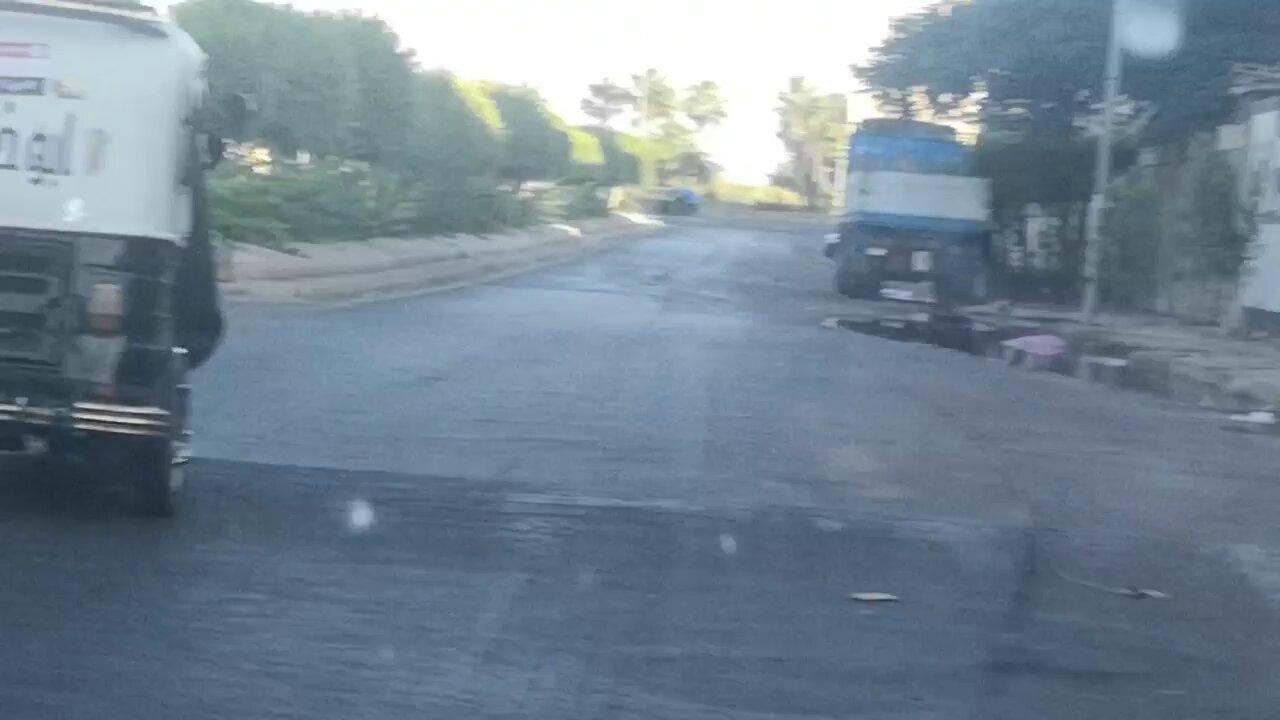Bump: (215, 427, 1280, 645)
